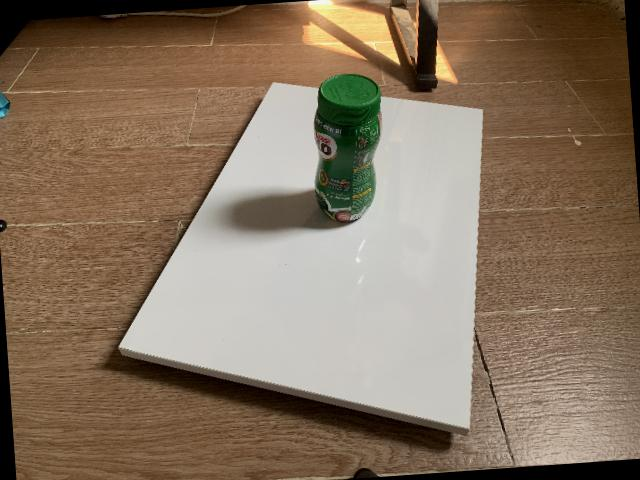milo: (313, 73, 383, 223)
